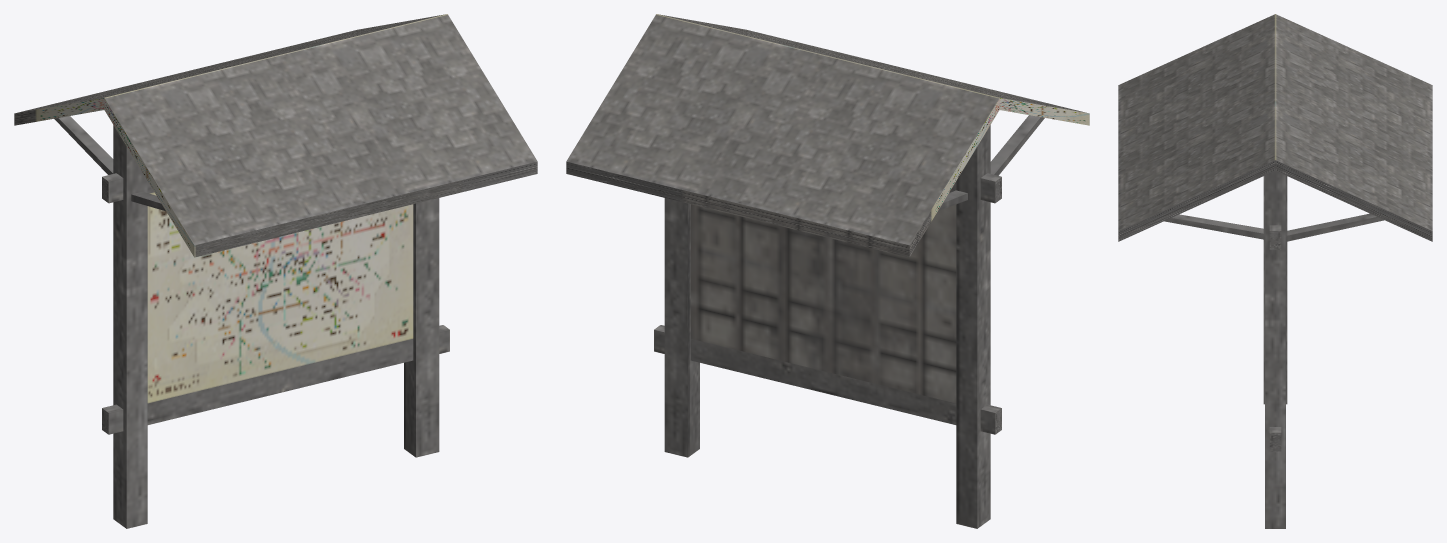
File: Infoboard01.obj
3 views of the same model, side by side, from view 1: azimuth 30°, elevation 25°; view 2: azimuth 150°, elevation 25°; view 3: azimuth 270°, elevation 25° (orthographic). The views are drawn at different scales.
Parts seen in each view (by area): view 1: Infoboard01.Roof; view 2: Infoboard01.Roof; view 3: Infoboard01.Roof.
Boxes of the visible parts, x1,y1,x2,y2 form: Infoboard01.Roof: [14, 14, 537, 528]; Infoboard01.Roof: [566, 14, 1089, 528]; Infoboard01.Roof: [1118, 14, 1432, 528].
Size of the model in its own units: 2.2 by 2.63 by 2.
